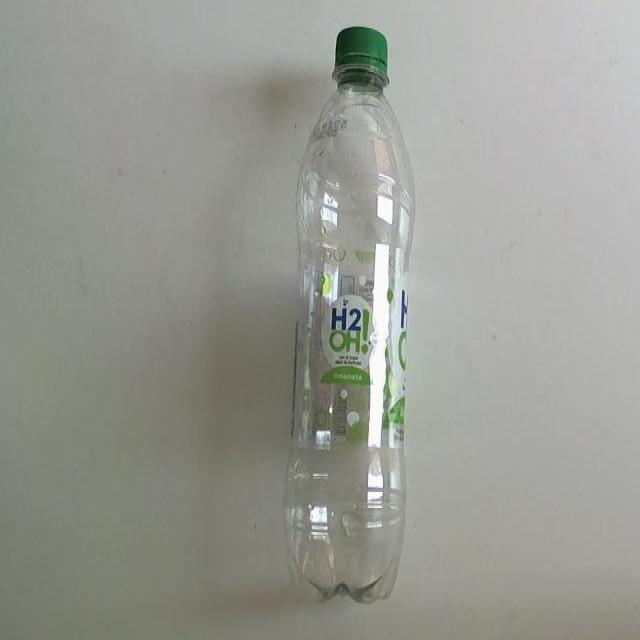non-defect: (282, 24, 417, 604)
